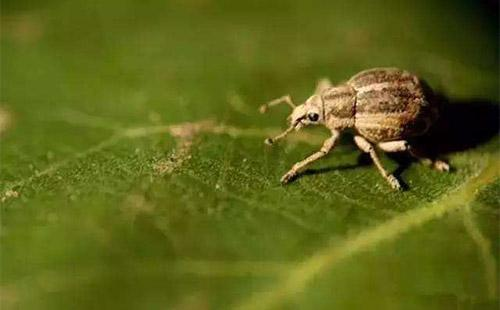Curculionidae: (258, 65, 452, 192)
